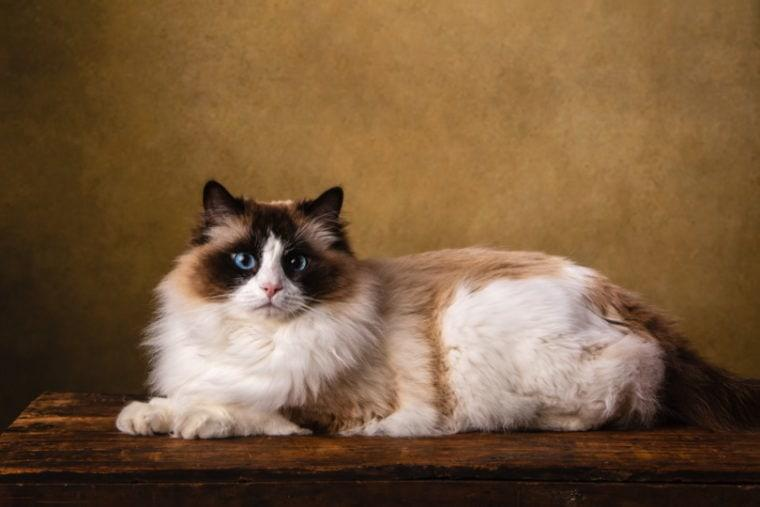ragdoll: (189, 173, 358, 329)
